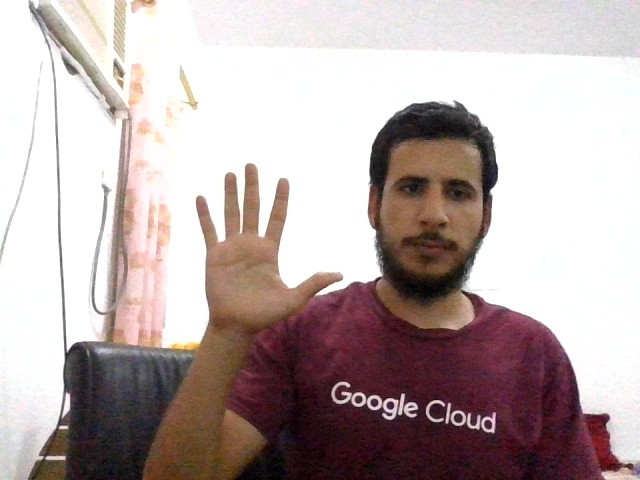Five: (196, 162, 343, 327)
